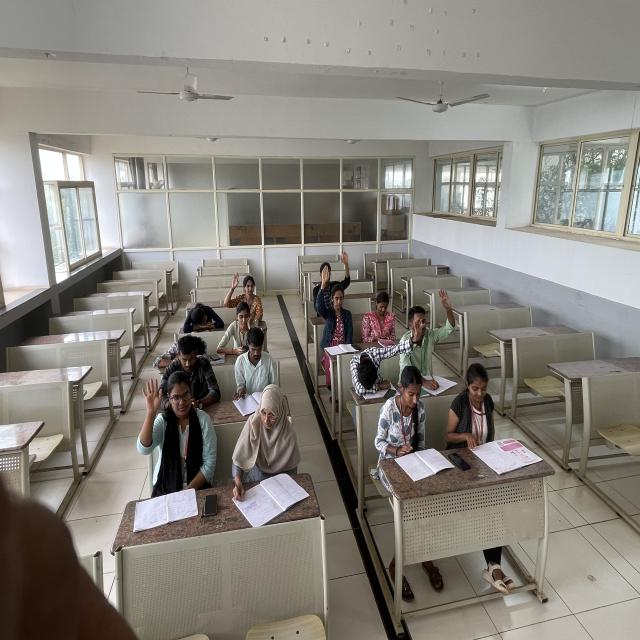Hand Rising: (136, 374, 217, 491), (402, 288, 459, 372), (312, 266, 354, 342), (225, 269, 265, 315), (316, 252, 352, 303)
Reading: (382, 369, 447, 474), (236, 320, 281, 410)
Sleeping: (178, 302, 227, 335)
Using Phone: (222, 304, 260, 356), (361, 294, 397, 340)
Writing: (233, 391, 308, 512)
